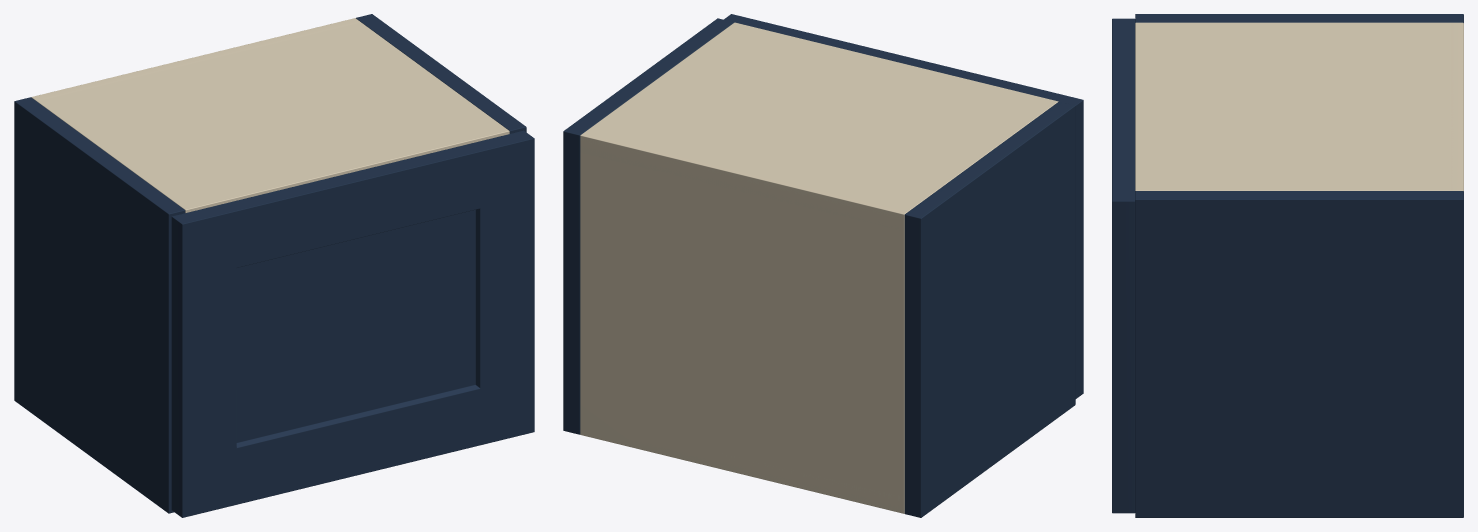
File: oppein-ply-bss-w1512.glb
3 renders of one model, left to right at view 1: azimuth 30°, elevation 25°; view 2: azimuth 150°, elevation 25°; view 3: azimuth 270°, elevation 25°, orthographic. The views are drawn at different scales.
Visible parts, largest first — view 1: Door, Cabinet side, Cabinet top, Cabinet side.001, Cabinet back; view 2: Cabinet back, Cabinet side, Cabinet top, Cabinet side.001, Door, Cabinet bottom; view 3: Cabinet side.001, Cabinet top, Door, Cabinet side, Cabinet back.
Boxes of the visible parts, x1=… form: Door: x1=171, y1=130, x2=534, y2=517; Cabinet side: x1=14, y1=97, x2=185, y2=513; Cabinet top: x1=37, y1=22, x2=509, y2=212; Cabinet side.001: x1=356, y1=14, x2=526, y2=133; Cabinet back: x1=31, y1=18, x2=360, y2=101; Cabinet back: x1=580, y1=131, x2=909, y2=513; Cabinet side: x1=904, y1=101, x2=1075, y2=517; Cabinet top: x1=580, y1=22, x2=1058, y2=230; Cabinet side.001: x1=563, y1=18, x2=733, y2=434; Door: x1=724, y1=14, x2=1083, y2=398; Cabinet bottom: x1=580, y1=429, x2=904, y2=513; Cabinet side.001: x1=1135, y1=191, x2=1463, y2=517; Cabinet top: x1=1135, y1=22, x2=1462, y2=190; Door: x1=1112, y1=18, x2=1135, y2=513; Cabinet side: x1=1135, y1=14, x2=1463, y2=22; Cabinet back: x1=1450, y1=22, x2=1463, y2=191.
Size of the model in its own units: 0.381 by 0.3048 by 0.3048.
